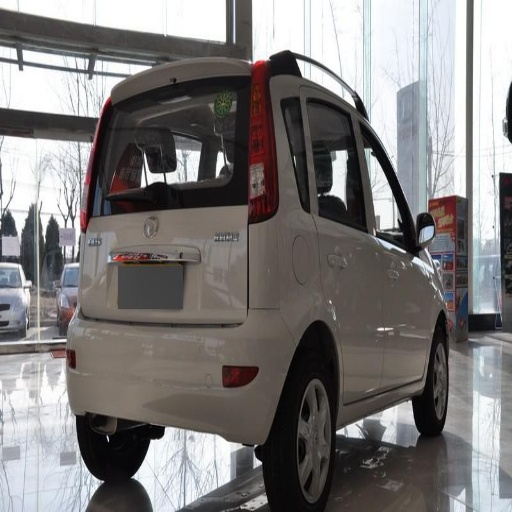back_bumper: (65, 309, 295, 435)
back_right_door: (302, 86, 383, 398)
tailgate: (80, 210, 245, 325)
trunk: (125, 202, 274, 293)
